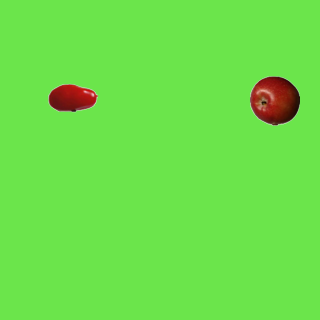Apple Braeburn: (249, 75, 299, 125)
Tomato 2: (47, 72, 97, 122)
